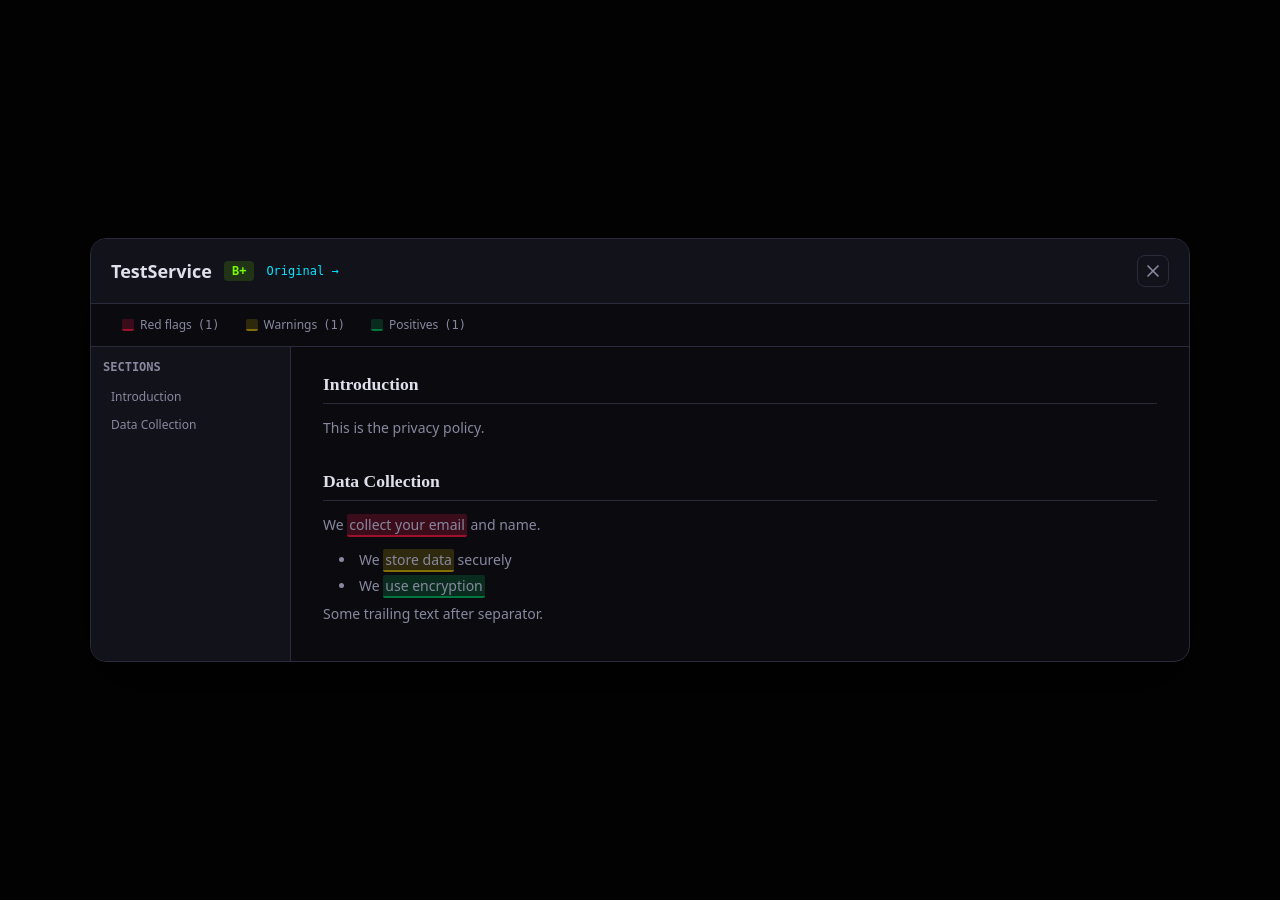
Scenario: PolicyViewer › clicking a finding type button activates navigation
Step 1. Click the text "Red flags" → (166, 324), box [140,316,192,332]
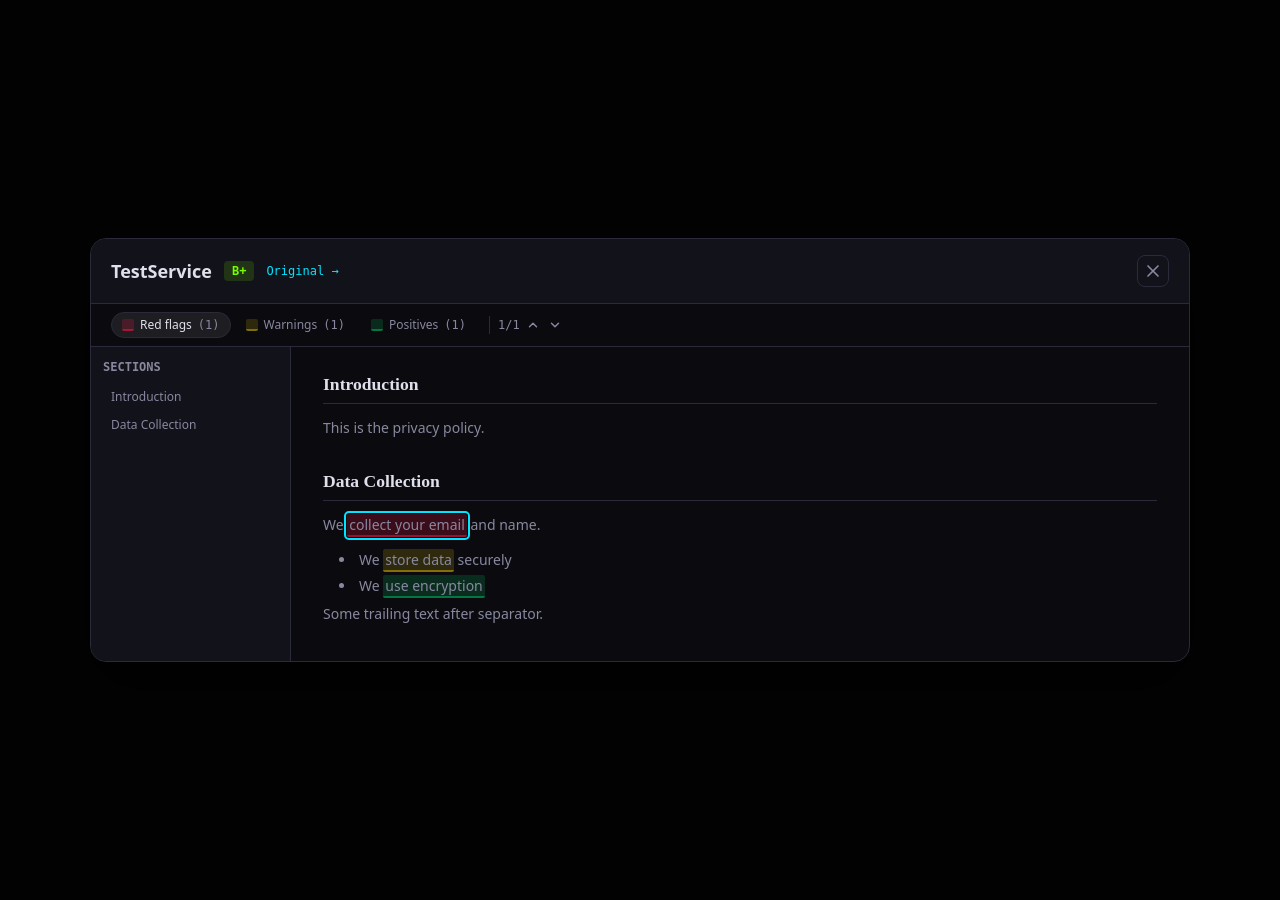
Expected: the button named "Previous finding" is shown, [524,316,542,334]
Expected: the button named "Next finding" is shown, [546,316,564,334]
